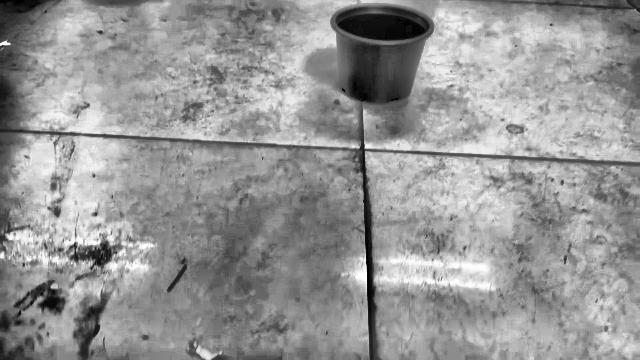pot: (331, 4, 433, 103)
